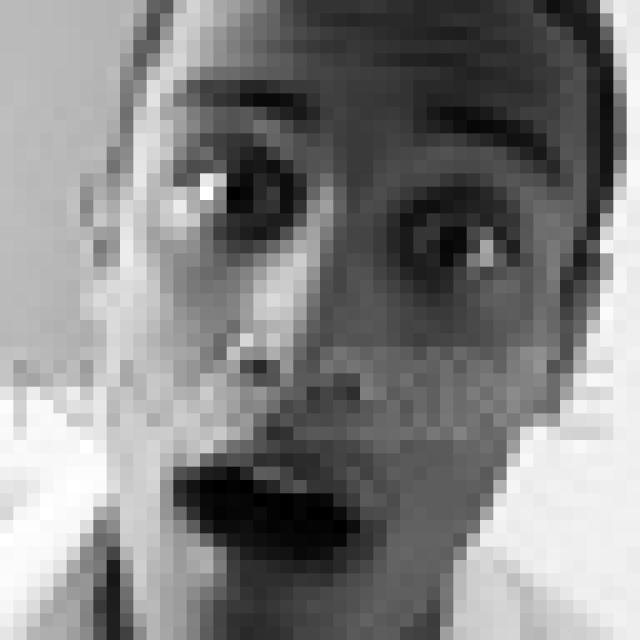surprise: (132, 72, 572, 607)
